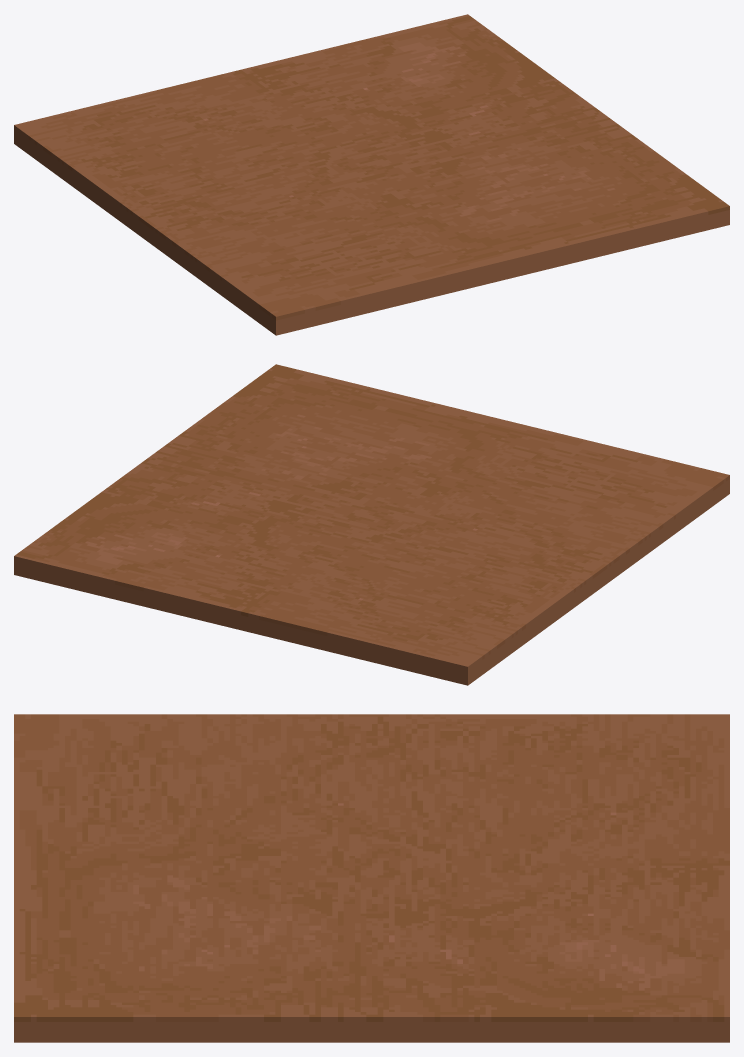
Rendered from world1_Ground ver2.fbx.
3 renders of one model, top to bottom at view 1: azimuth 30°, elevation 25°; view 2: azimuth 150°, elevation 25°; view 3: azimuth 270°, elevation 25°, orthographic. The views are drawn at different scales.
Parts seen in each view (by area): view 1: terrain_monde1:Mesh; view 2: terrain_monde1:Mesh; view 3: terrain_monde1:Mesh.
Boxes of the visible parts, x1,y1,x2,y2 form: terrain_monde1:Mesh: (14,14,729,335); terrain_monde1:Mesh: (14,364,729,685); terrain_monde1:Mesh: (14,714,729,1042).
Size of the model in its own units: 126 by 5 by 126.
